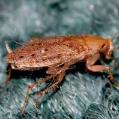cockroach: (4, 34, 114, 80)
